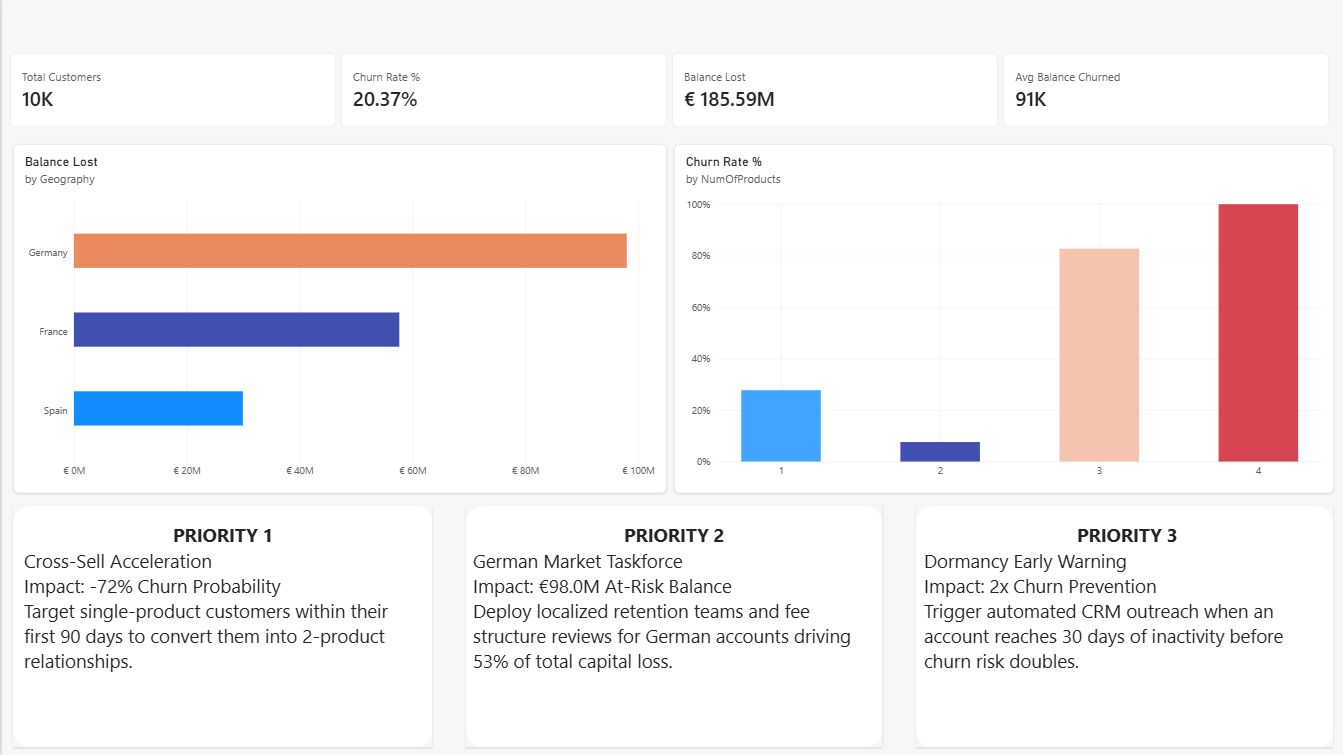

What the dashboard file says about the page in this screenshot:
{"tool":"powerbi","page":{"name":"Executive Summary","canvas":[1920,1080],"ordinal":0},"visuals":[{"type":"cardVisual","fields":{"Data":["_Key Measures.Total Customers","_Key Measures.Churn Rate %","_Key Measures.Balance Lost","_Key Measures.Avg Balance Churned"]},"box":[11.5,77.6,1886.9,106.3],"z":0},{"type":"clusteredBarChart","fields":{"Category":["Customer_Info.Geography"],"Y":["_Key Measures.Balance Lost"]},"box":[15.8,206.9,934.1,498.7],"z":1000},{"type":"clusteredColumnChart","fields":{"Category":["Account_Info.NumOfProducts"],"Y":["_Key Measures.Churn Rate %"]},"box":[960,206.9,942.8,498.7],"z":2000},{"type":"shape","box":[15.8,724.3,599.3,344.9],"z":3000},{"type":"shape","box":[1306.3,724.3,596.4,344.9],"z":4000},{"type":"shape","box":[662.5,724.3,595,344.9],"z":5000},{"type":"textbox","box":[31.6,747.3,569.1,321.9],"z":6000},{"type":"textbox","box":[672.6,747.3,574.9,310.4],"z":7000},{"type":"textbox","box":[1317.8,747.3,580.6,310.4],"z":8000}]}

Visuals, with their boxes in screenshot pixels (x1, y1, x2, y2), scaled from the page's 1920x1080 canvas onto the 1343x755 screenshot:
cardVisual - _Key Measures.Total Customers x _Key Measures.Churn Rate %: box(8, 54, 1328, 129)
clusteredBarChart - Customer_Info.Geography x _Key Measures.Balance Lost: box(11, 145, 664, 493)
clusteredColumnChart - Account_Info.NumOfProducts x _Key Measures.Churn Rate %: box(672, 145, 1331, 493)
shape: box(11, 506, 430, 747)
shape: box(914, 506, 1331, 747)
shape: box(463, 506, 880, 747)
textbox: box(22, 522, 420, 747)
textbox: box(470, 522, 873, 739)
textbox: box(922, 522, 1328, 739)
